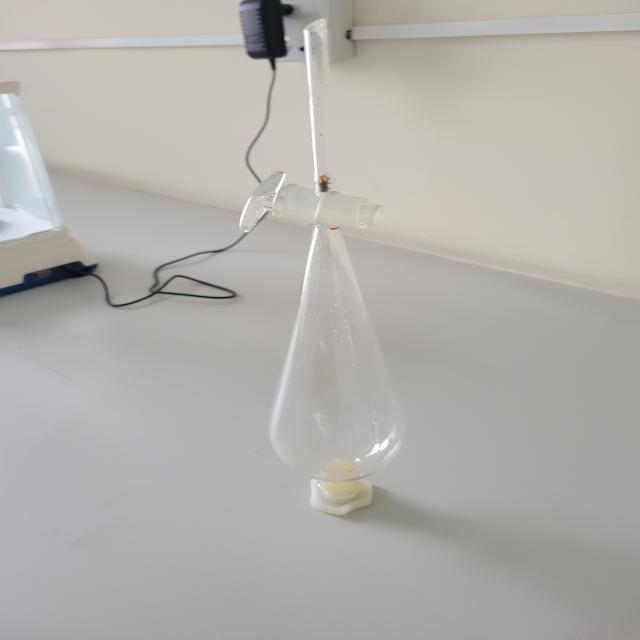Separating_Funnel: (218, 0, 476, 546)
